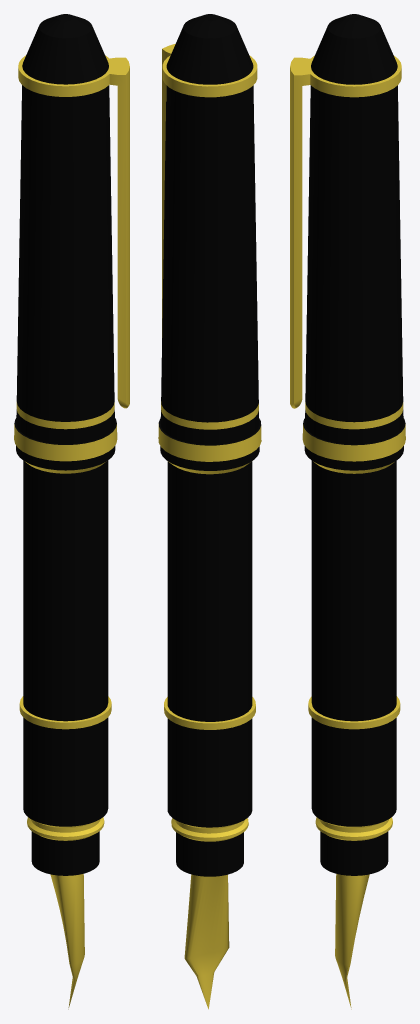
The model's file is stylo.fbx.
3 renders of one model, left to right at view 1: azimuth 90°, elevation 25°; view 2: azimuth 210°, elevation 25°; view 3: azimuth 270°, elevation 25°, orthographic.
Parts seen in each view (by area): view 1: Cylinder, Cylinder.001; view 2: Cylinder, Cylinder.001; view 3: Cylinder, Cylinder.001.
Boxes of the visible parts, <box> form: Cylinder: <box>14,14,117,1009</box>; Cylinder.001: <box>109,57,129,408</box>; Cylinder: <box>158,14,261,1009</box>; Cylinder.001: <box>162,43,175,337</box>; Cylinder: <box>302,14,405,1009</box>; Cylinder.001: <box>290,57,310,408</box>.
Bounding box in the file's own units: 46.35 × 492 × 52.02.
